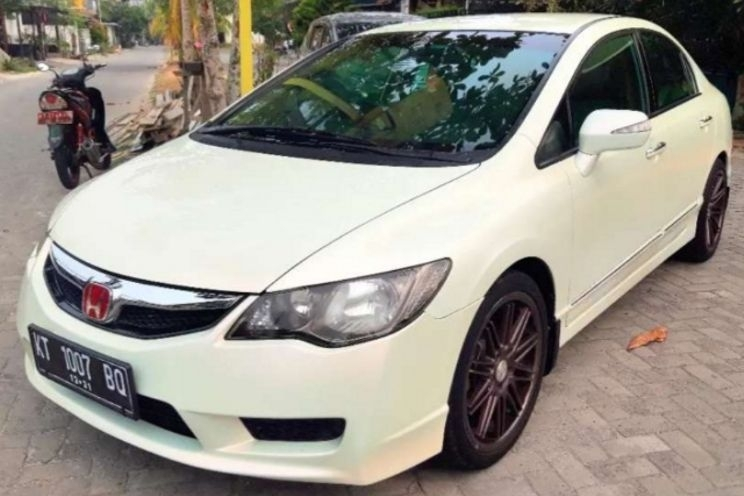plate: (29, 326, 133, 411)
